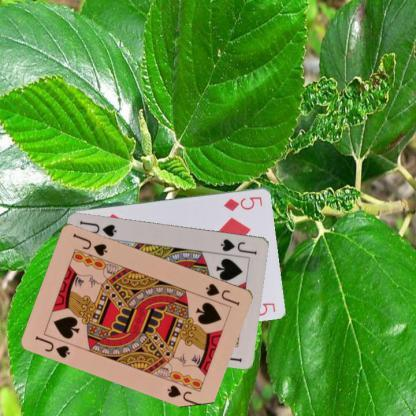5d: (221, 194, 264, 212)
Js: (32, 332, 72, 360), (202, 280, 242, 307), (218, 236, 258, 256)
